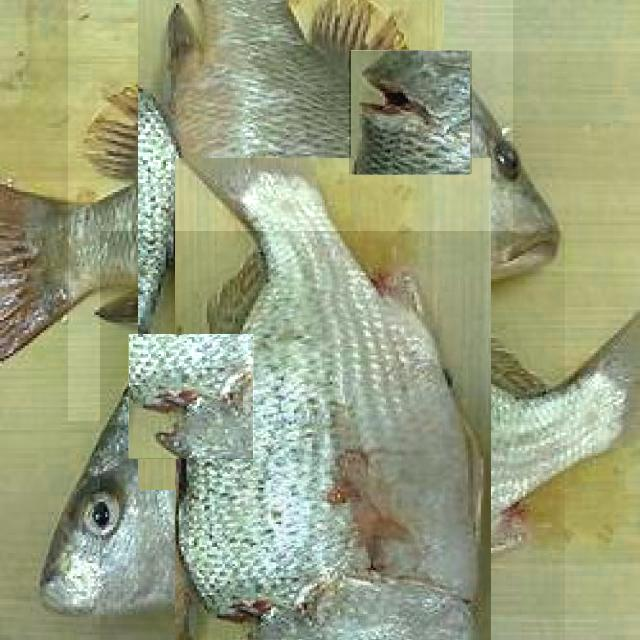EUS Disease: (100, 231, 565, 640), (68, 0, 513, 421), (128, 334, 254, 458), (349, 51, 472, 174)
